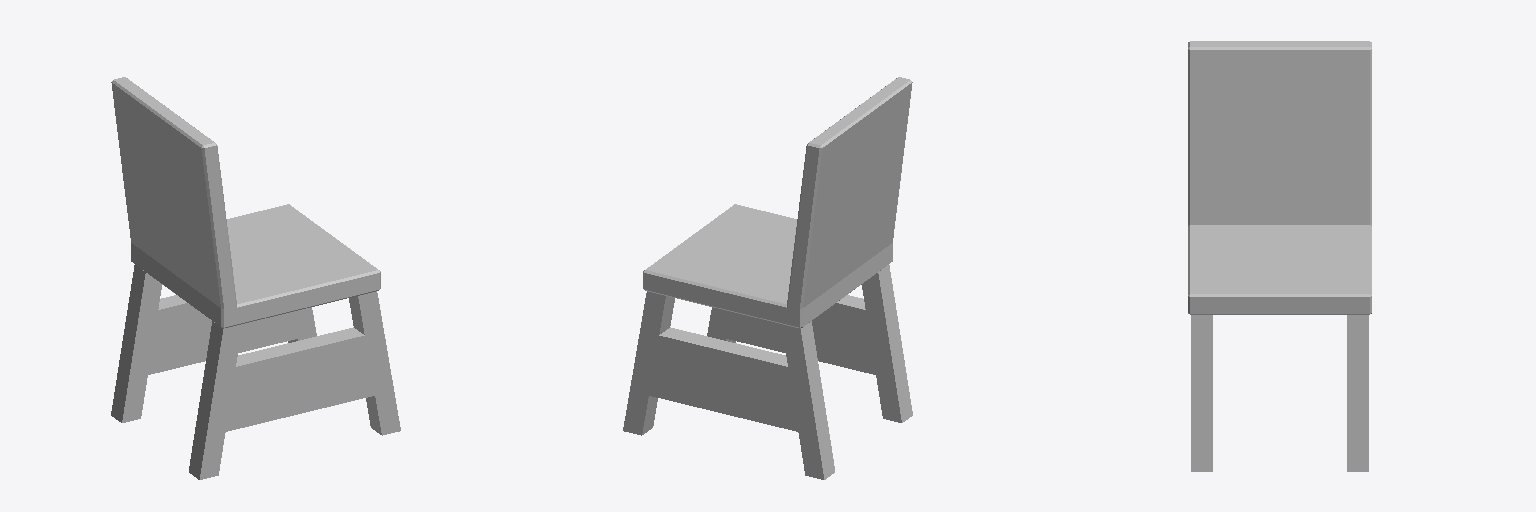
File: chair-alt.obj
3 views of the same model, side by side, from view 1: azimuth 30°, elevation 25°; view 2: azimuth 150°, elevation 25°; view 3: azimuth 270°, elevation 25° (orthographic).
Parts seen in each view (by area): view 1: chair_Cube.002; view 2: chair_Cube.002; view 3: chair_Cube.002.
Boxes of the visible parts, box(x1,y1,x2,y2) form: chair_Cube.002: box(111, 77, 400, 479); chair_Cube.002: box(623, 77, 912, 479); chair_Cube.002: box(1188, 41, 1371, 471).
Bounding box in the file's own units: 0.5047 × 0.8 × 0.4.